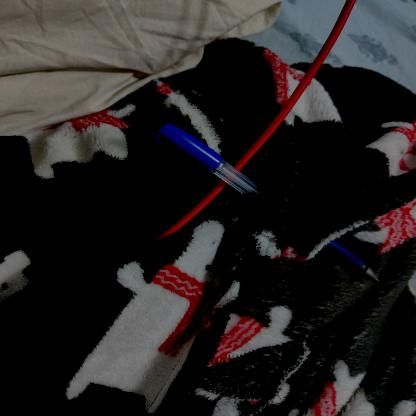Pen: (138, 112, 391, 329)
